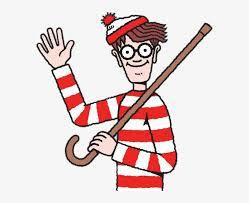waldo: (99, 9, 170, 82)
